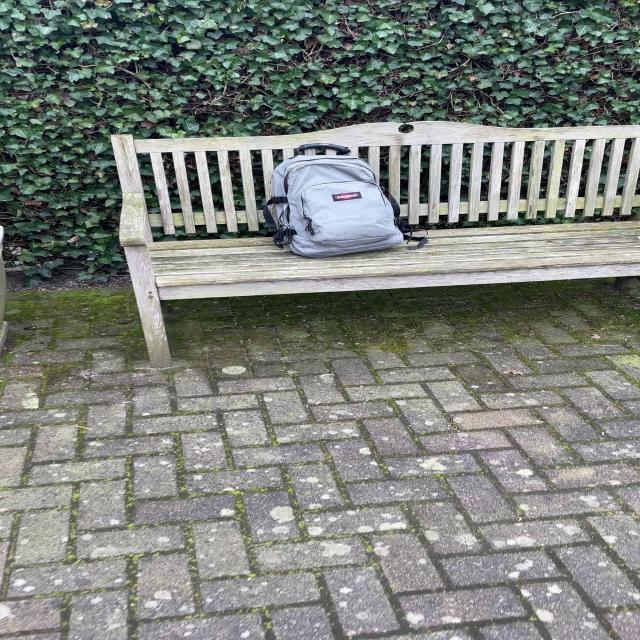backpack: (258, 141, 410, 261)
